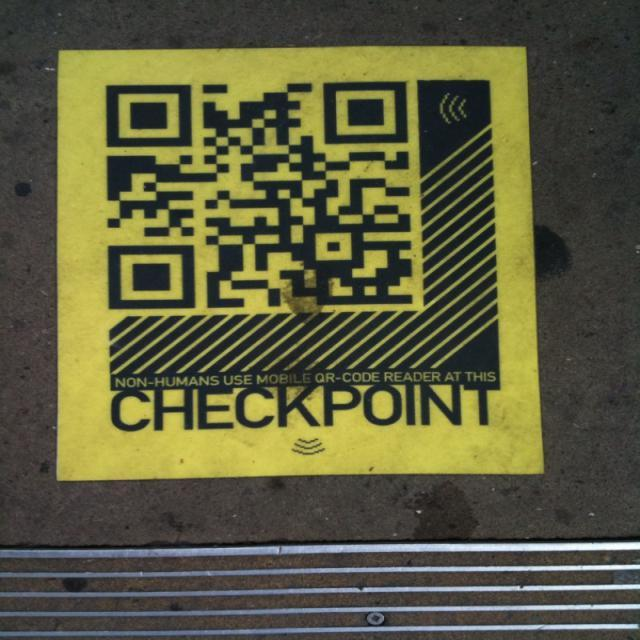qrcode: (108, 83, 413, 310)
